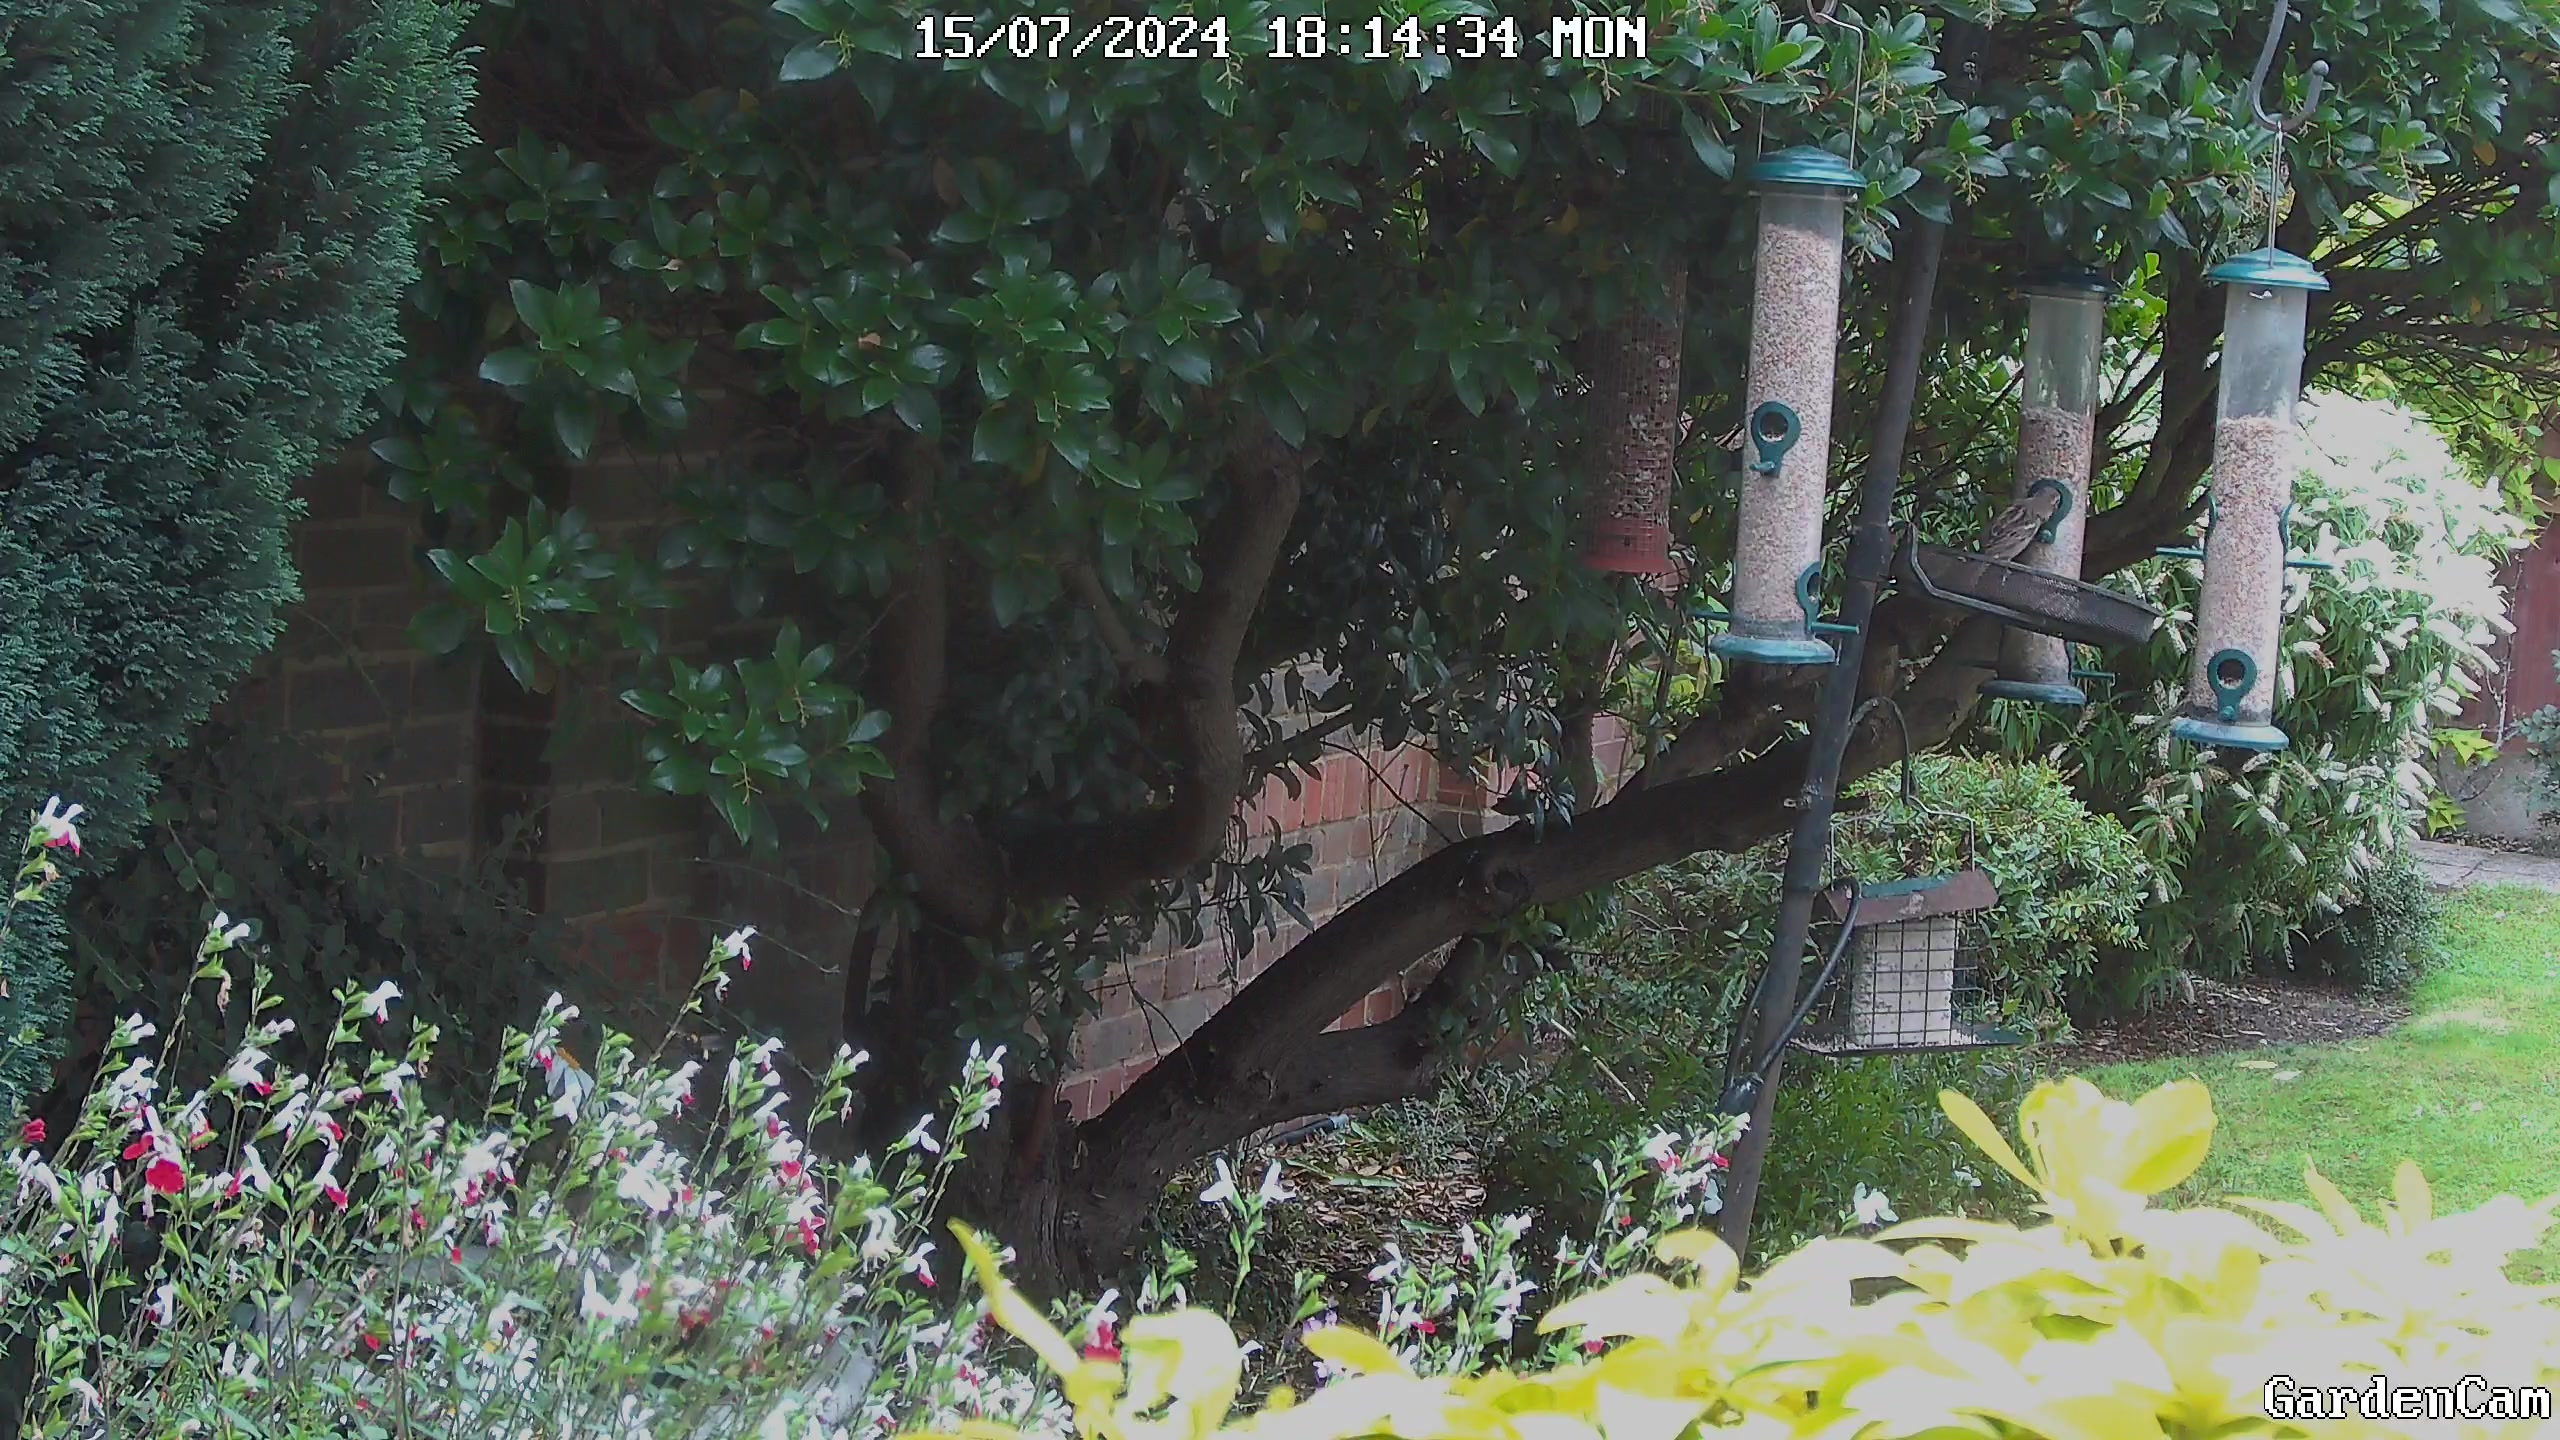House_Sparrow: (1939, 464, 2087, 600)
